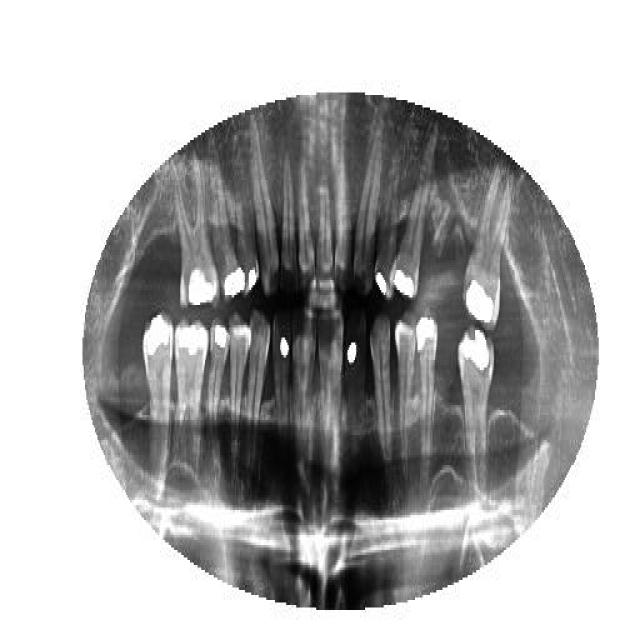Fillings: (461, 170, 509, 335), (392, 135, 438, 297), (457, 328, 495, 490), (143, 313, 175, 505), (178, 165, 218, 310), (174, 322, 208, 480), (416, 312, 440, 468), (215, 175, 244, 300), (205, 320, 231, 440), (373, 160, 395, 300), (239, 168, 261, 290)
